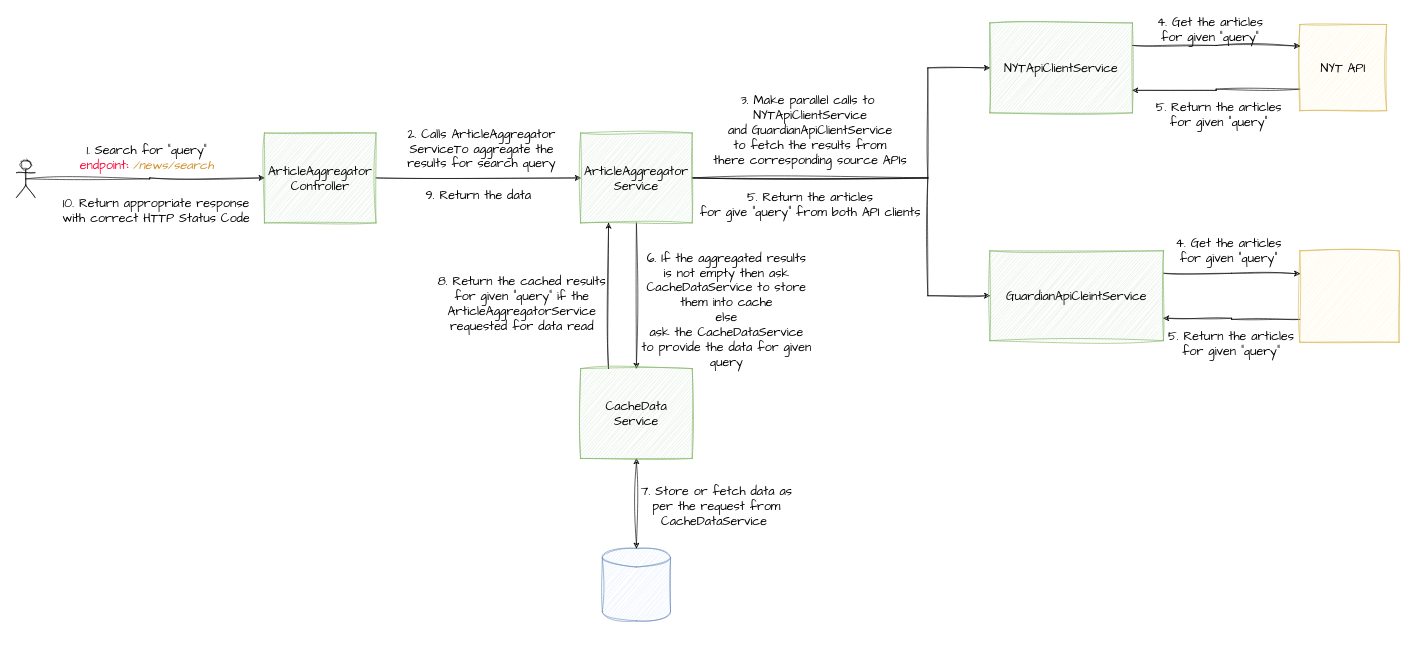
The diagram is 1410 pixels wide and 649 high, and some of its shapes have lost their labels. Each missing label, with the centre of its shape:
"CacheDB" belongs at pixel 636 584.
"Client" belongs at pixel 25 178.
"Guardian API" belongs at pixel 1349 296.
